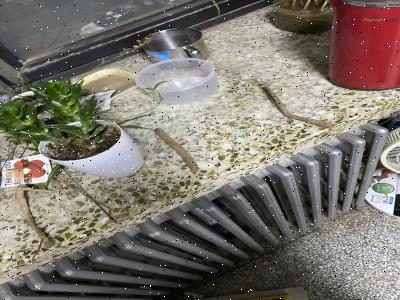Root: (262, 83, 335, 128), (15, 184, 63, 247), (154, 128, 200, 174)
